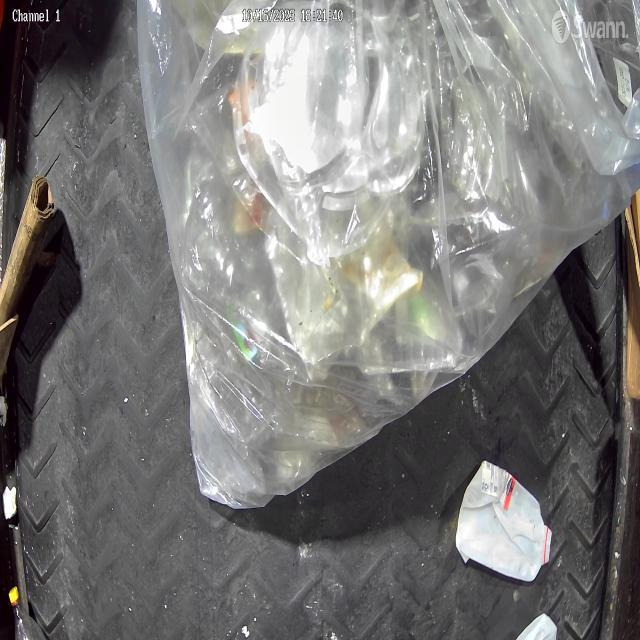milk_jug: (454, 460, 552, 582)
plastic_bottle: (8, 585, 42, 640)
